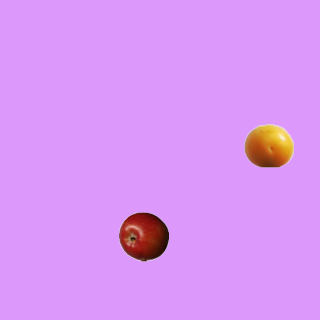Apple Braeburn: (118, 211, 168, 261)
Cherry Wax Yellow: (243, 120, 293, 170)
